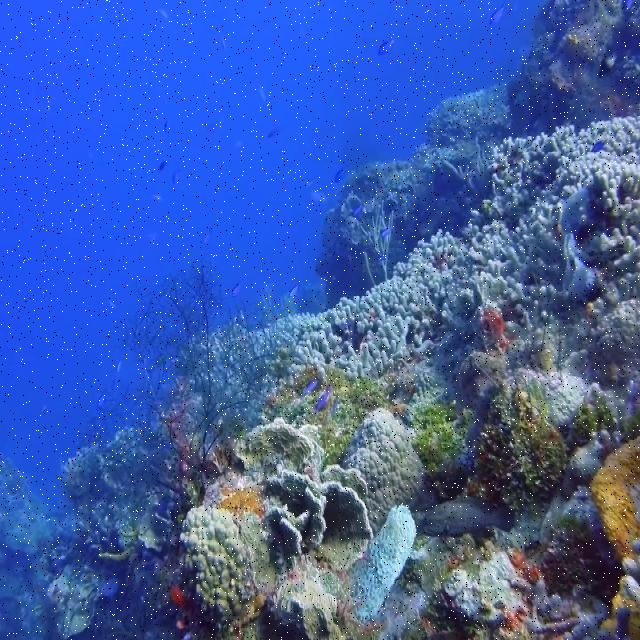fish: (596, 39, 623, 81), (314, 384, 333, 411), (489, 1, 508, 26), (378, 36, 397, 56), (254, 78, 268, 103), (157, 2, 169, 27), (307, 190, 328, 203), (590, 138, 607, 154), (301, 379, 319, 394), (219, 34, 230, 56), (200, 228, 213, 246), (334, 163, 345, 184), (230, 278, 241, 298), (267, 125, 282, 139), (104, 297, 120, 310), (145, 233, 161, 245), (371, 253, 388, 264), (163, 112, 170, 137), (172, 171, 182, 186), (151, 192, 163, 204), (289, 284, 299, 297), (377, 228, 391, 237), (159, 159, 167, 172), (352, 205, 362, 215)
reefs: (1, 1, 638, 637)
